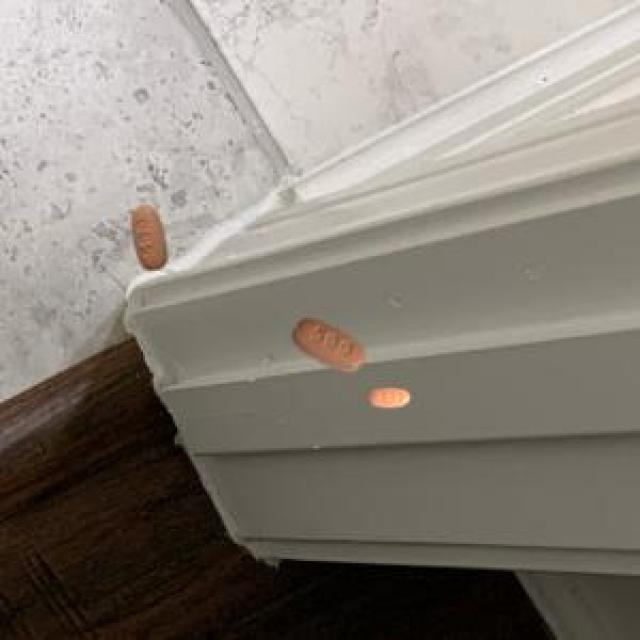Biogesic: (288, 311, 382, 378), (117, 196, 179, 277), (356, 382, 422, 419)
